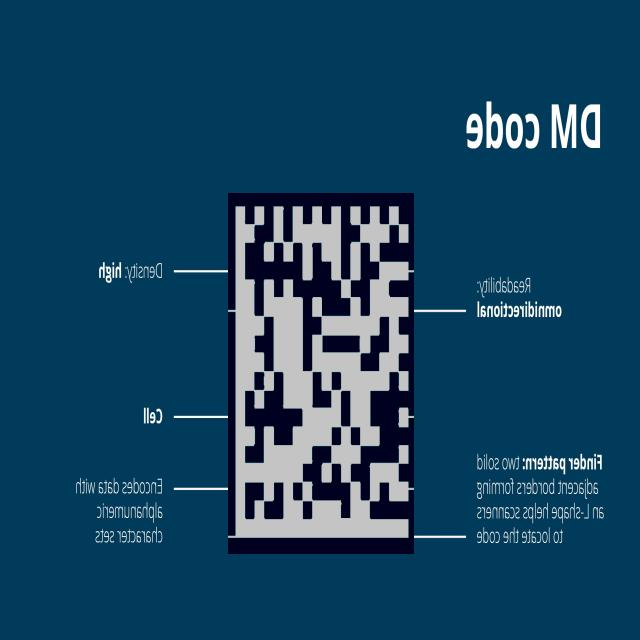DataMatrix: (228, 193, 414, 554)
